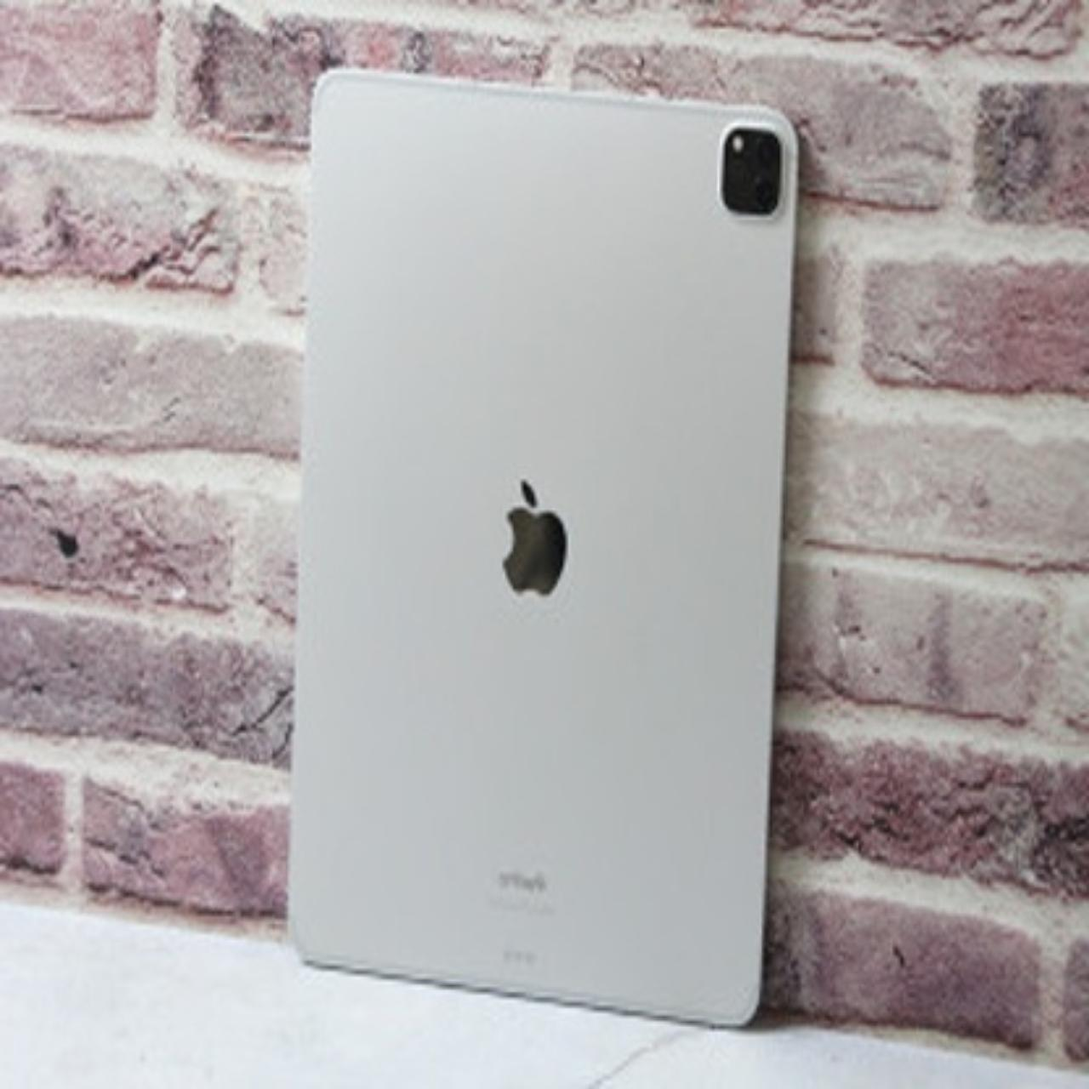Tablet_PC: (267, 55, 814, 1023)
